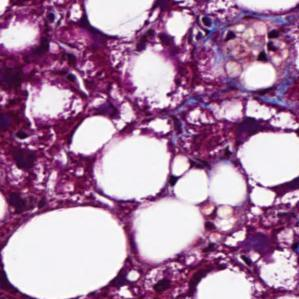inflammation: (2, 126, 59, 181), (189, 5, 244, 49)
